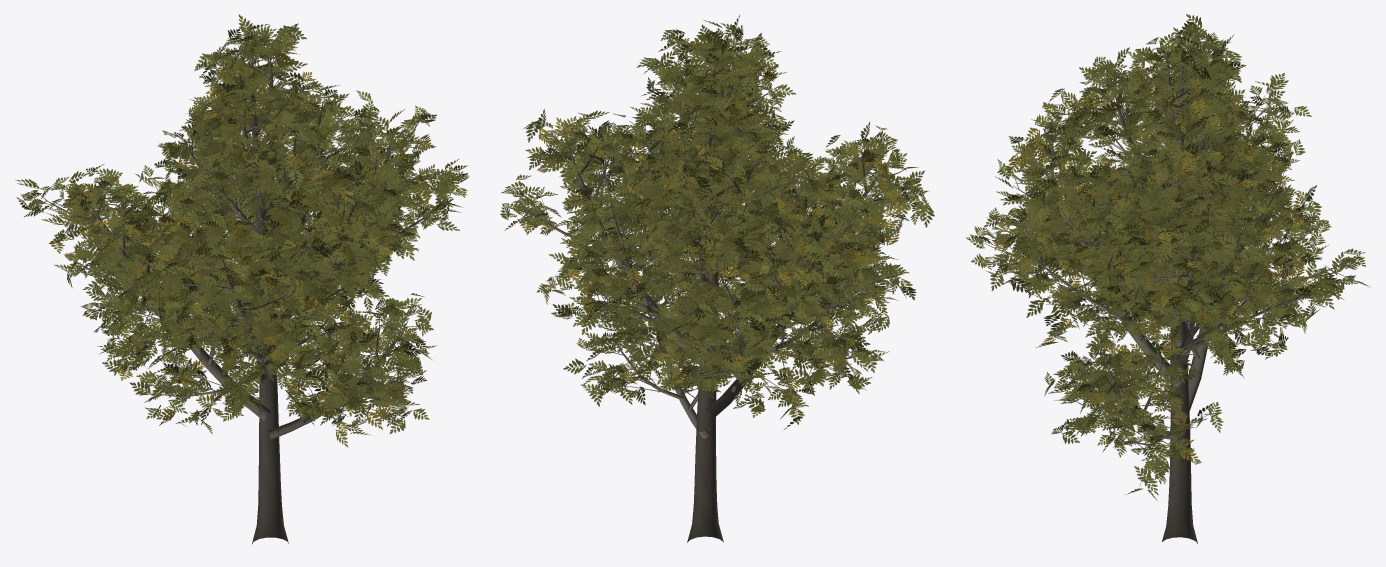
File: broadleaf_a_near.glb
3 renders of one model, left to right at view 1: azimuth 30°, elevation 25°; view 2: azimuth 150°, elevation 25°; view 3: azimuth 270°, elevation 25°, orthographic.
Visible parts, largest first — view 1: broadleaf_a_leaves, broadleaf_a_wood; view 2: broadleaf_a_leaves, broadleaf_a_wood; view 3: broadleaf_a_leaves, broadleaf_a_wood.
Part boxes in pixels (<box>): broadleaf_a_leaves: <box>15,14,469,447</box>; broadleaf_a_wood: <box>31,28,459,543</box>; broadleaf_a_leaves: <box>500,15,934,429</box>; broadleaf_a_wood: <box>517,28,920,542</box>; broadleaf_a_leaves: <box>966,14,1370,500</box>; broadleaf_a_wood: <box>983,30,1352,543</box>.
Bounding box in the file's own units: 12.86 × 16.36 × 11.64.
2 materials, 1 textured.
